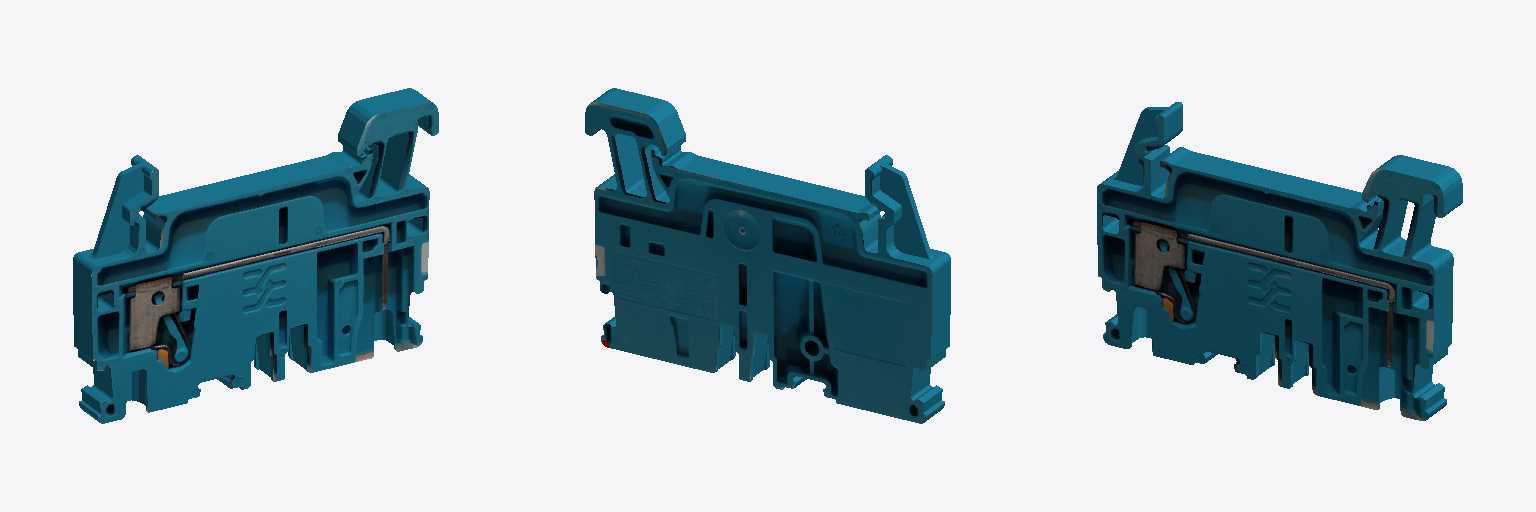
3 views of the same model, side by side, from view 1: azimuth 30°, elevation 25°; view 2: azimuth 150°, elevation 25°; view 3: azimuth 330°, elevation 25° (orthographic).
Parts seen in each view (by area): view 1: [number redacted]_[number redacted].014; view 2: [number redacted]_[number redacted].014; view 3: [number redacted]_[number redacted].014.
Boxes of the visible parts, x1,y1,x2,y2 form: [number redacted]_[number redacted].014: [73, 88, 438, 423]; [number redacted]_[number redacted].014: [585, 88, 950, 423]; [number redacted]_[number redacted].014: [1097, 102, 1462, 420].
Size of the model in its own units: 0.0542 by 0.0362 by 0.0051.
1 materials, 1 textured.